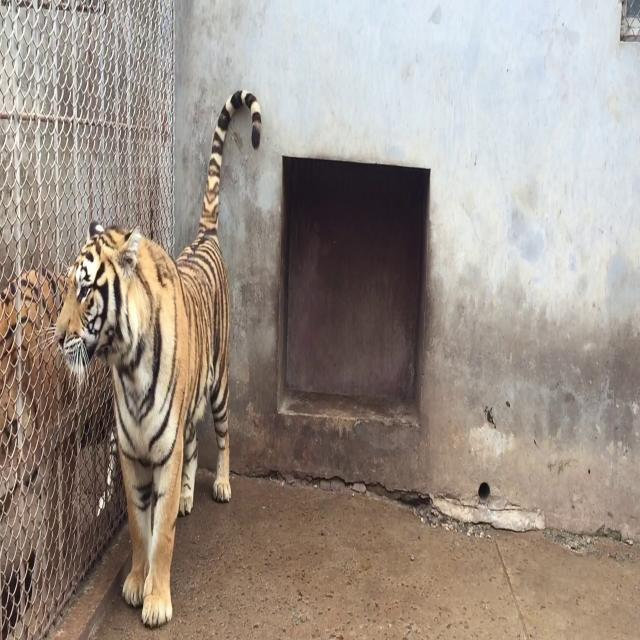Tiger: (29, 50, 278, 639)
